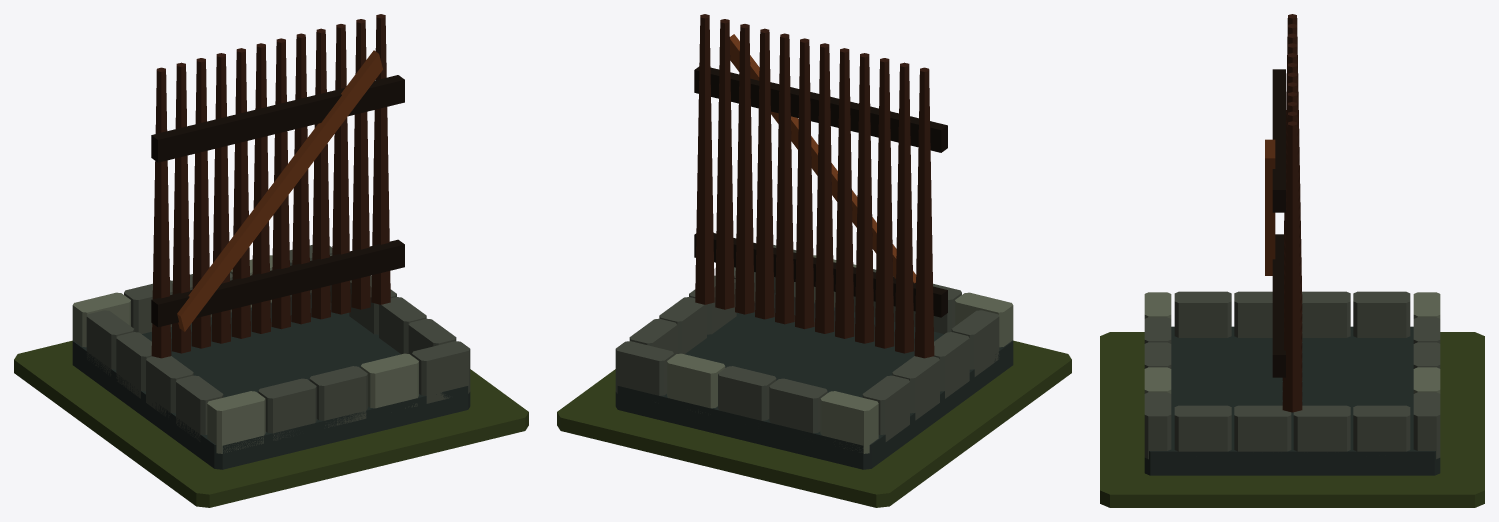
The model's file is wall_t4.glb.
3 renders of one model, left to right at view 1: azimuth 30°, elevation 25°; view 2: azimuth 150°, elevation 25°; view 3: azimuth 270°, elevation 25°, orthographic.
Parts seen in each view (by area): view 1: MMR | wall | T04 Architecture.001, MMR | wall | Tier 04 Ground.001; view 2: MMR | wall | T04 Architecture.001, MMR | wall | Tier 04 Ground.001; view 3: MMR | wall | T04 Architecture.001, MMR | wall | Tier 04 Ground.001.
Part boxes in pixels (left/top/right/bottom): MMR | wall | T04 Architecture.001: left=72, top=14, right=470, bottom=469; MMR | wall | Tier 04 Ground.001: left=14, top=340, right=528, bottom=507; MMR | wall | T04 Architecture.001: left=615, top=14, right=1013, bottom=469; MMR | wall | Tier 04 Ground.001: left=557, top=340, right=1071, bottom=507; MMR | wall | T04 Architecture.001: left=1144, top=14, right=1440, bottom=475; MMR | wall | Tier 04 Ground.001: left=1100, top=332, right=1484, bottom=507.
Bounding box in the file's own units: 1.3 × 1.33 × 1.3.
Materials: 1 (1 with a texture image).
